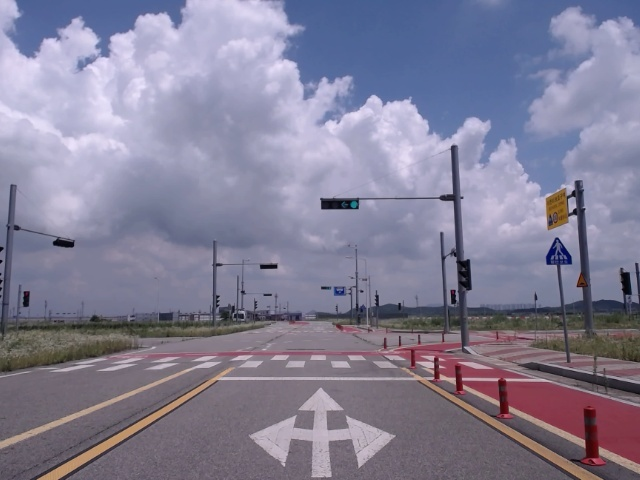all_green_4: (322, 199, 360, 208)
